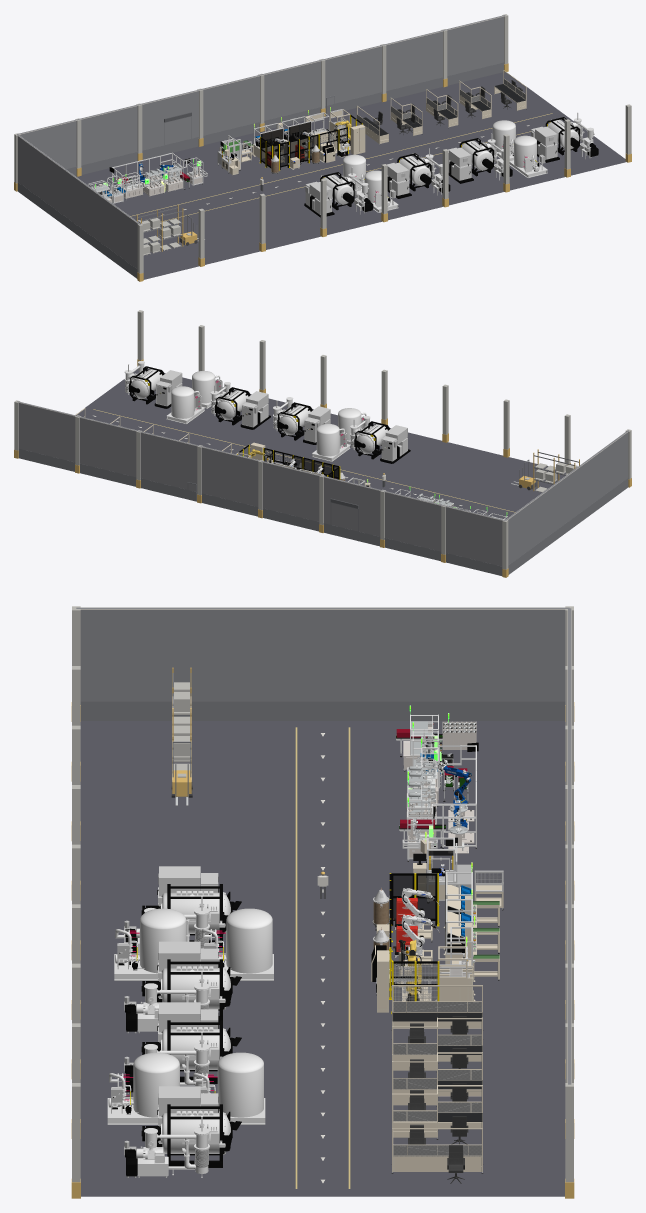
File: example.glb
3 renders of one model, top to bottom at view 1: azimuth 30°, elevation 25°; view 2: azimuth 150°, elevation 25°; view 3: azimuth 270°, elevation 25°, orthographic. The views are drawn at different scales.
Visible parts, largest first — view 1: floor, object 2, object 5, P_base, object 3, P_furnace_1, P_furnace_3, P_furnace_2, P_furnace_4, object 6, P_vacuum_side_object_4, P_vacuum_side_object_2 (+12 smaller); view 2: object 2, floor, object 5, object 3, P_furnace_3, P_furnace_1, P_furnace_4, P_furnace_2, P_base, object 6, P_vacuum_side_object, P_vacuum_side_object_3 (+4 smaller); view 3: floor, object 5, P_base, object 6, P_furnace_4, P_furnace_2, P_furnace_3, P_furnace_1, P_vacuum_side_object, P_vacuum_side_object_4, P_vacuum_side_object_3, P_vacuum_side_object_2 (+14 smaller).
Boxes of the visible parts, x1,y1,x2,y2 form: floor: [76, 72, 626, 279]; object 2: [17, 15, 505, 168]; object 5: [17, 134, 140, 269]; P_base: [217, 109, 365, 175]; object 3: [66, 62, 503, 176]; P_furnace_1: [304, 167, 373, 217]; P_furnace_3: [448, 133, 512, 183]; P_furnace_2: [387, 148, 450, 198]; P_furnace_4: [531, 112, 598, 162]; object 6: [17, 182, 137, 278]; P_vacuum_side_object_4: [509, 135, 547, 177]; P_vacuum_side_object_2: [364, 170, 398, 212]; object 2: [17, 401, 504, 566]; floor: [76, 369, 566, 519]; object 5: [505, 430, 628, 565]; object 3: [18, 449, 502, 575]; P_furnace_3: [210, 382, 270, 429]; P_furnace_1: [350, 416, 410, 463]; P_furnace_4: [124, 361, 182, 408]; P_furnace_2: [273, 397, 330, 444]; P_base: [236, 442, 370, 486]; object 6: [508, 478, 628, 574]; P_vacuum_side_object: [312, 424, 350, 461]; P_vacuum_side_object_3: [166, 386, 204, 424]; floor: [80, 721, 565, 1196]; object 5: [76, 607, 569, 701]; P_base: [371, 837, 503, 1014]; object 6: [80, 701, 565, 720]; P_furnace_4: [124, 1086, 241, 1177]; P_furnace_2: [124, 941, 241, 1033]; P_furnace_3: [124, 1002, 241, 1093]; P_furnace_1: [124, 866, 241, 953]; P_vacuum_side_object: [200, 908, 273, 980]; P_vacuum_side_object_4: [107, 1052, 179, 1124]; P_vacuum_side_object_3: [193, 1052, 265, 1124]; P_vacuum_side_object_2: [114, 908, 186, 980].
Bounding box in the file's own units: 64.54 × 7.02 × 28.54.
99 materials, 68 textured.
